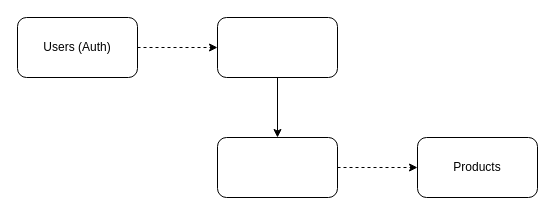
The diagram is 555 pixels wide and 215 high, and some of its shapes have lost their labels. Each missing label, with the box of its shape:
Order Items: (216, 136, 338, 198)
Orders: (216, 16, 338, 78)
